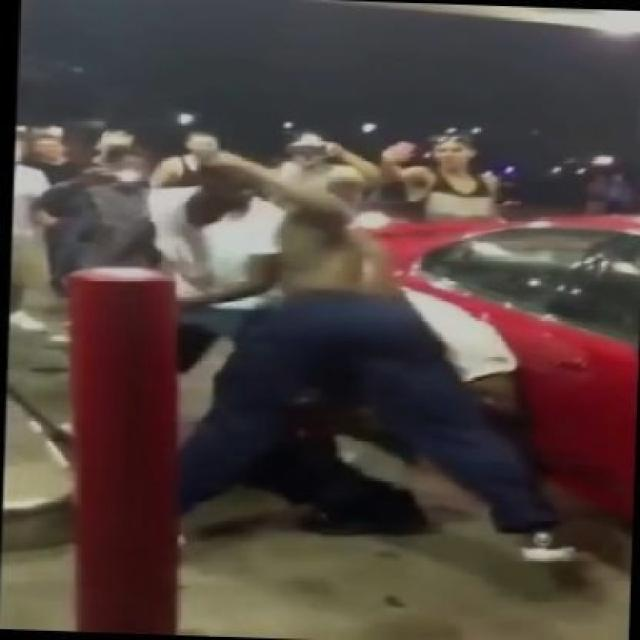fight: (146, 146, 572, 569)
